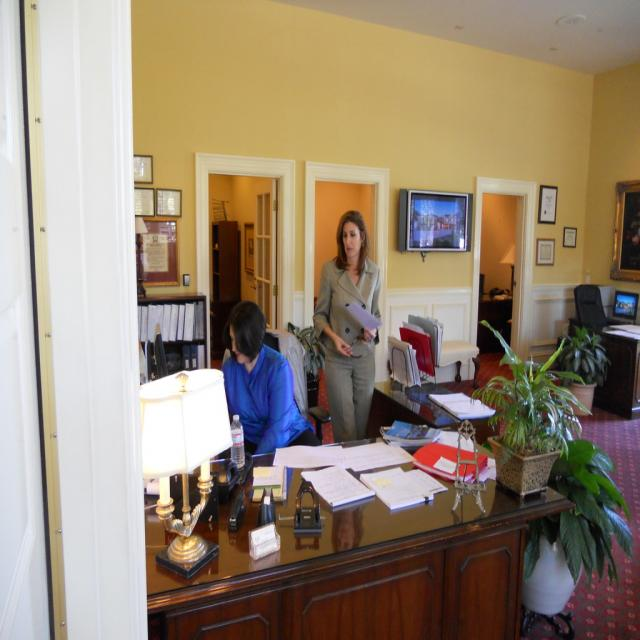desk: (144, 437, 576, 640)
person: (314, 210, 383, 442), (222, 300, 316, 455)
tv: (398, 189, 472, 253), (612, 291, 638, 323)
